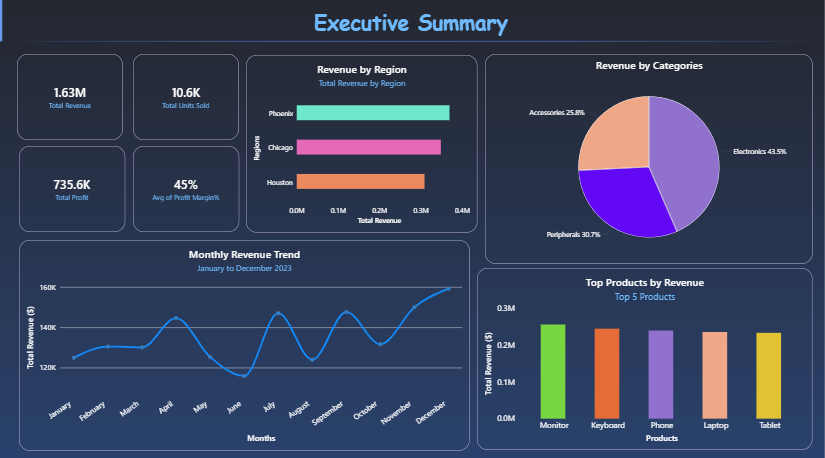

The page's visual inventory and layout, read from the dashboard file:
{"tool":"powerbi","page":{"name":"Executive Summary","canvas":[1920,1080],"ordinal":0},"visuals":[{"type":"cardVisual","fields":{"Data":["Sum(Sheet1 (2).Units_Sold)"]},"box":[311.1,126.7,246,200],"z":0},{"type":"cardVisual","fields":{"Data":["Sum(Sheet1 (2).Revenue)"]},"box":[42.2,124.4,246,200],"z":1000},{"type":"cardVisual","fields":{"Data":["Sum(Sheet1 (2).Profit)"]},"box":[46.7,340,246.7,200],"z":2000},{"type":"cardVisual","fields":{"Data":["Avg(Sheet1 (2).Profit_Margin_%)"]},"box":[311.1,340,246.7,200],"z":3000},{"type":"lineChart","title":"Monthly Revenue Trend","fields":{"Category":["Sheet1 (2).Month"],"Y":["Sum(Sheet1 (2).Revenue)"]},"box":[47.5,557.3,1047.6,490.3],"z":4000},{"type":"clusteredBarChart","title":"Revenue by Region","fields":{"Category":["Sheet1 (2).Region"],"Y":["Sum(Sheet1 (2).Revenue)"]},"box":[574.6,127.4,537.8,412.6],"z":5000},{"type":"pieChart","title":"Revenue by Categories ","fields":{"Category":["Sheet1 (2).Category"],"Y":["Sum(Sheet1 (2).Revenue)"]},"box":[1129.7,125.3,762.5,488.2],"z":6000},{"type":"clusteredColumnChart","title":"Top Products by Revenue","fields":{"Category":["Sheet1 (2).Product"],"Y":["Sum(Sheet1 (2).Revenue)"]},"box":[1112.4,624.2,779.8,423.4],"z":7000},{"type":"textbox","box":[675.6,15.6,566.7,82.2],"z":8000}]}

Visuals, with their boxes in screenshot pixels (x1, y1, x2, y2), scaled from the page's 1920x1080 canvas onto the 825x458 screenshot:
cardVisual - Sum(Sheet1 (2).Units_Sold): 134/54/239/139
cardVisual - Sum(Sheet1 (2).Revenue): 18/53/124/138
cardVisual - Sum(Sheet1 (2).Profit): 20/144/126/229
cardVisual - Avg(Sheet1 (2).Profit_Margin_%): 134/144/240/229
"Monthly Revenue Trend" lineChart: 20/236/471/444
"Revenue by Region" clusteredBarChart: 247/54/478/229
"Revenue by Categories " pieChart: 485/53/813/260
"Top Products by Revenue" clusteredColumnChart: 478/265/813/444
textbox: 290/7/534/41
